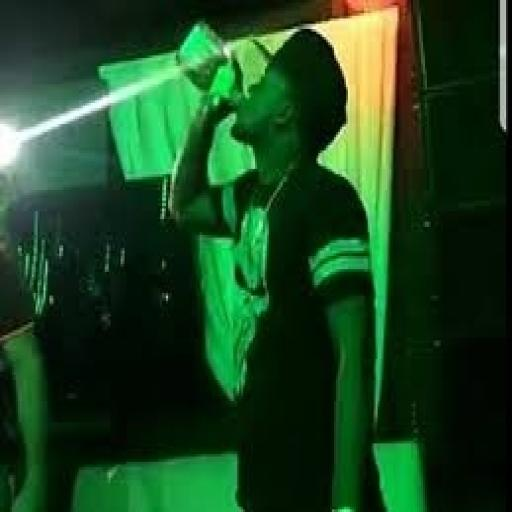drinking: (147, 12, 347, 216)
